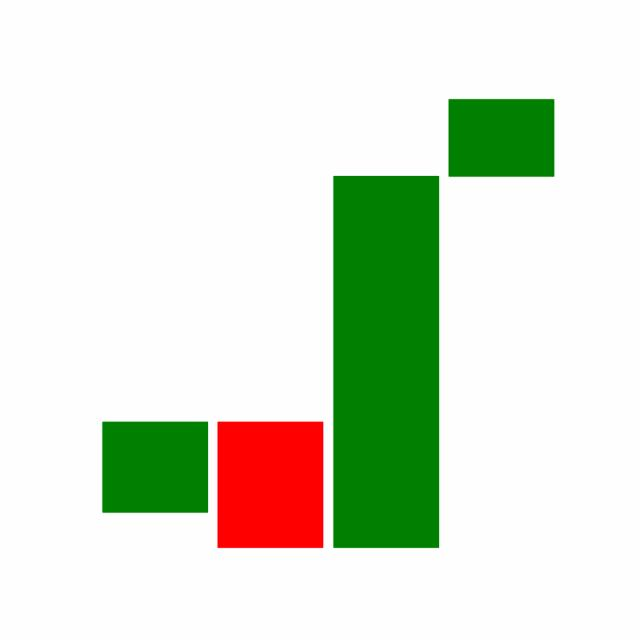Marubozu: (328, 172, 444, 551)
